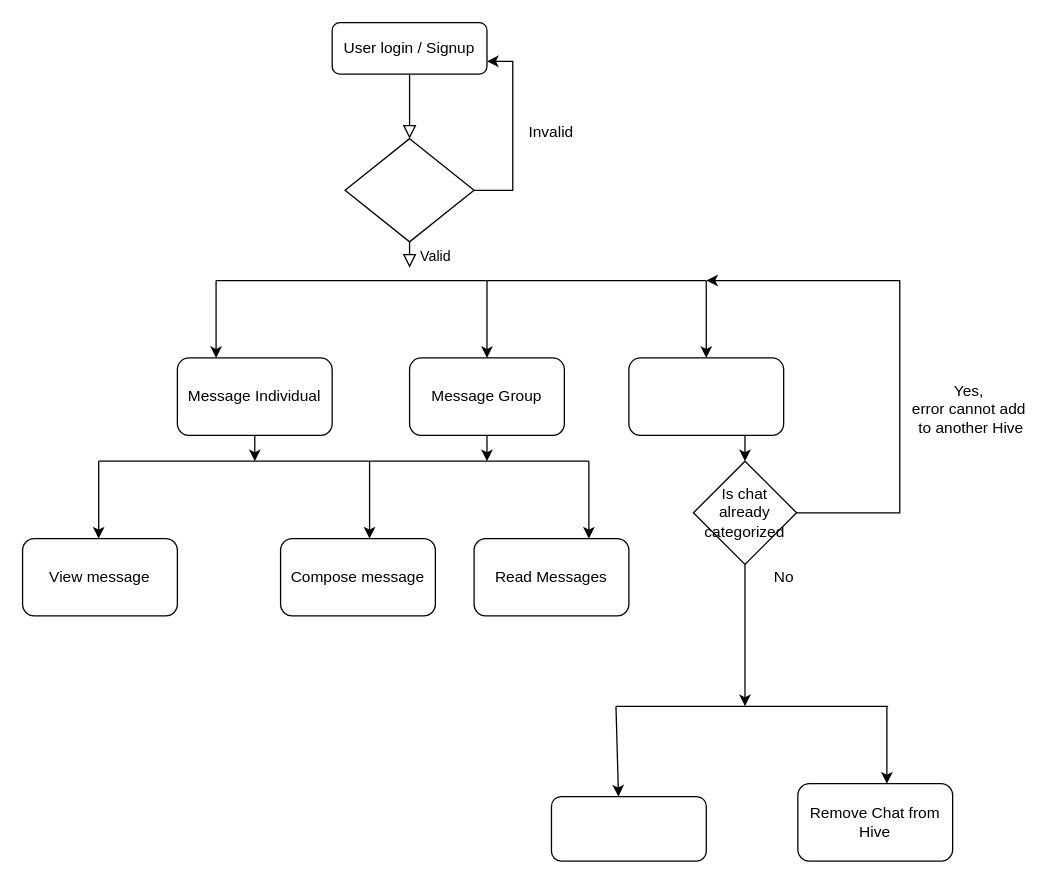
Image size: 1064x884. Some labels were removed from this diagram. The centre of each missing label's shape, as x and y in pixels:
"Add Chat to Hive" belongs at (x=628, y=828).
"Categorize messages" belongs at (x=706, y=396).
"Check for valid user credentials" belongs at (x=409, y=189).
